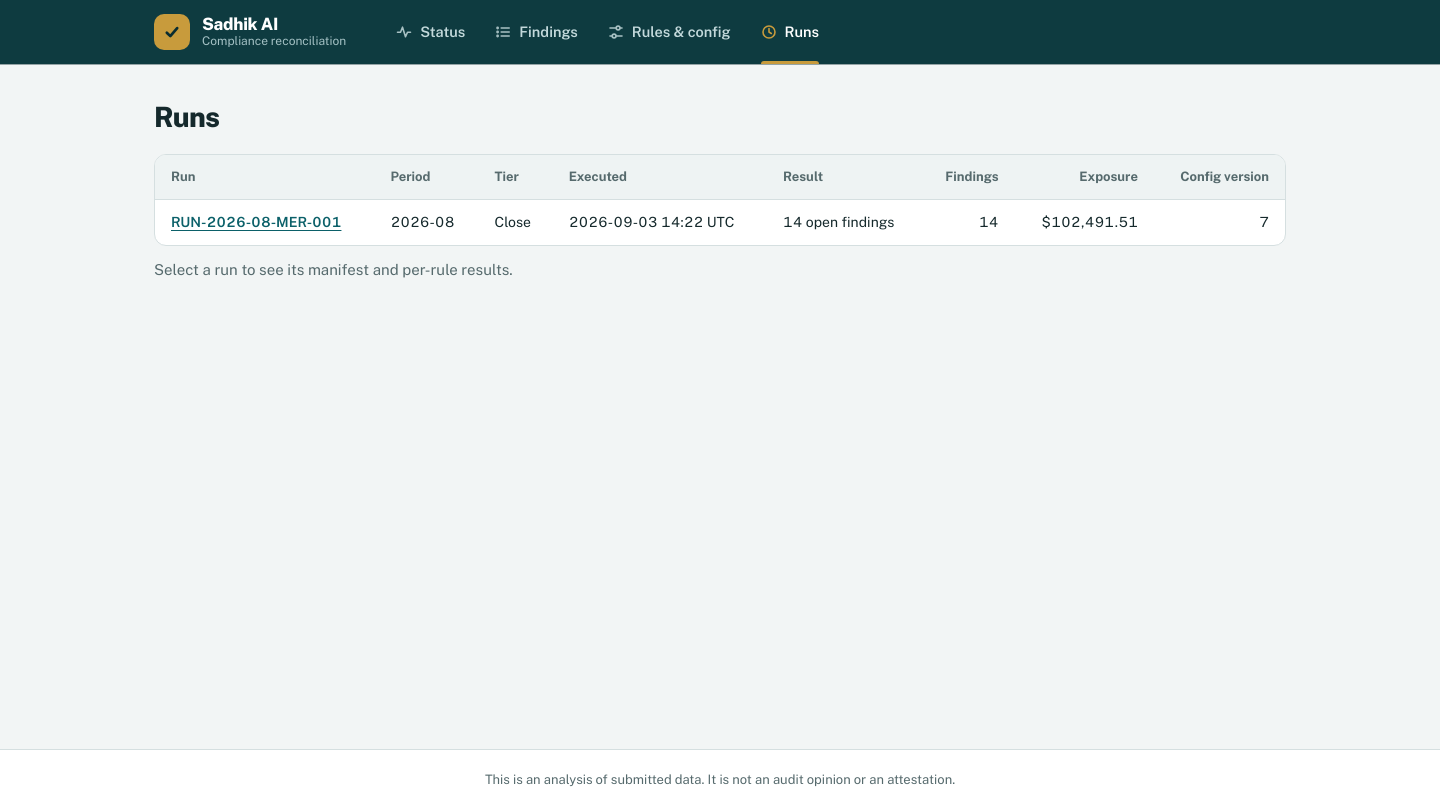
Test: runs › lists runs and shows the manifest and per-rule results for the selected run
Check: the table named "runs, as returned" shows "$102,491.51", box [1041,214,1138,230]
Click the button "RUN-2026-08-MER-001" at (256, 223), box [171,212,342,233]
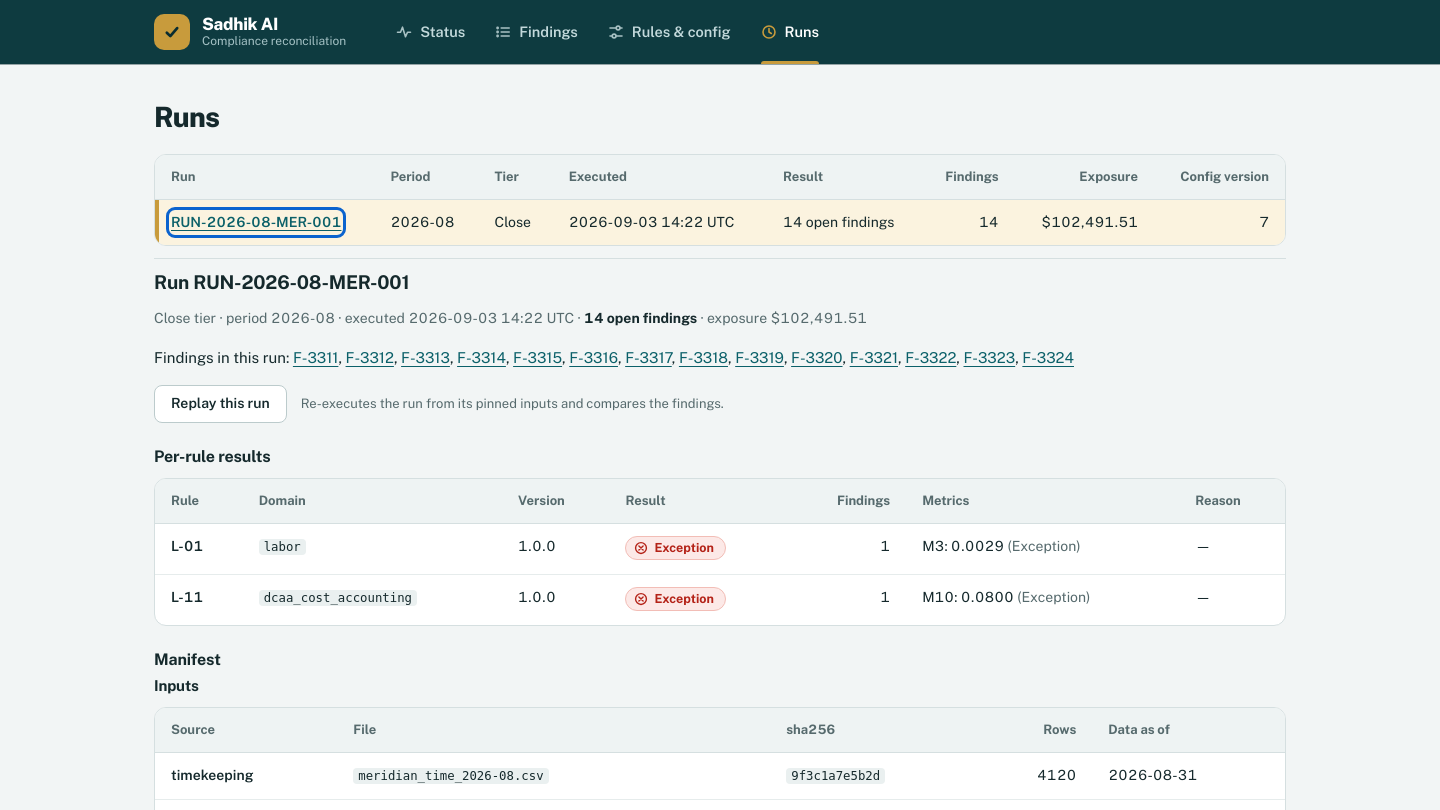
Check: the table named "input files pinned" shows "meridian_time_2026-08.csv", box [358,769,544,783]
Check: the table named "input files pinned" shows "9f3c1a7e5b2d", box [791,769,880,783]
Check: the table named "result of each rule" shows "M3", box [922,538,944,554]
